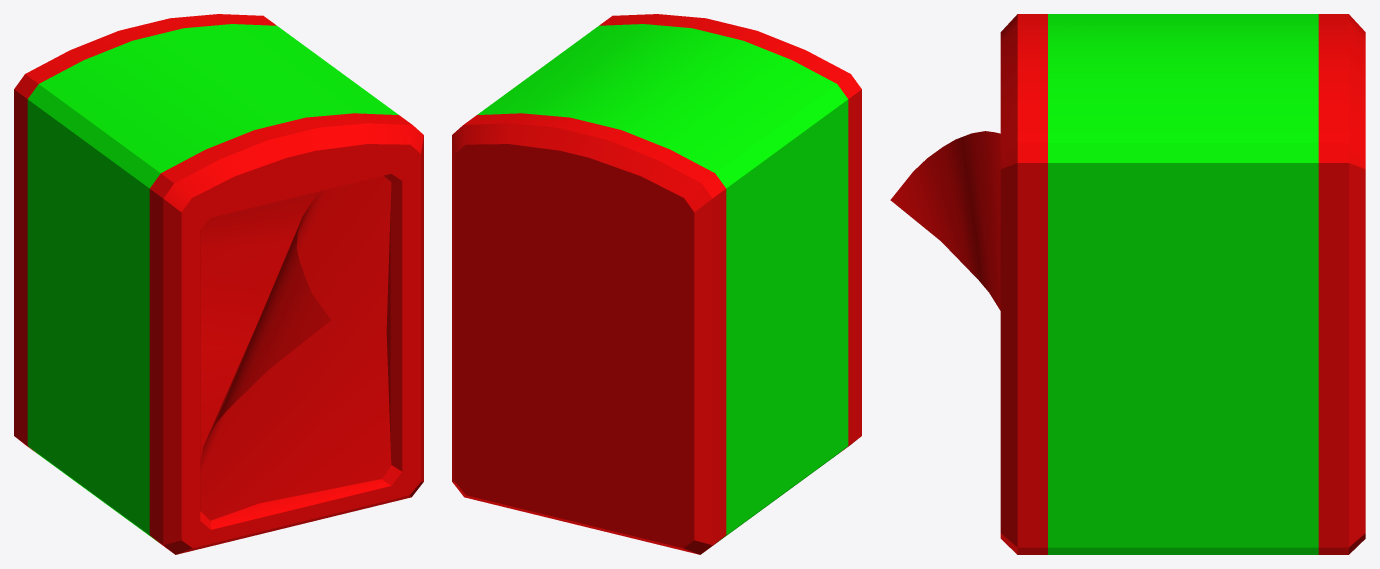
File: SM_DinerProp_NapkinHolder.FBX
3 renders of one model, left to right at view 1: azimuth 30°, elevation 25°; view 2: azimuth 150°, elevation 25°; view 3: azimuth 270°, elevation 25°, orthographic. The views are drawn at different scales.
Visible parts, largest first — view 1: SM_DinerProp_NapkinHolder; view 2: SM_DinerProp_NapkinHolder; view 3: SM_DinerProp_NapkinHolder.
Part boxes in pixels (box(x1,y1,x2,y2)): SM_DinerProp_NapkinHolder: box(14, 14, 423, 554); SM_DinerProp_NapkinHolder: box(452, 14, 861, 554); SM_DinerProp_NapkinHolder: box(890, 14, 1365, 554).
Bounding box in the file's own units: 12.04 × 17.32 × 17.15.
